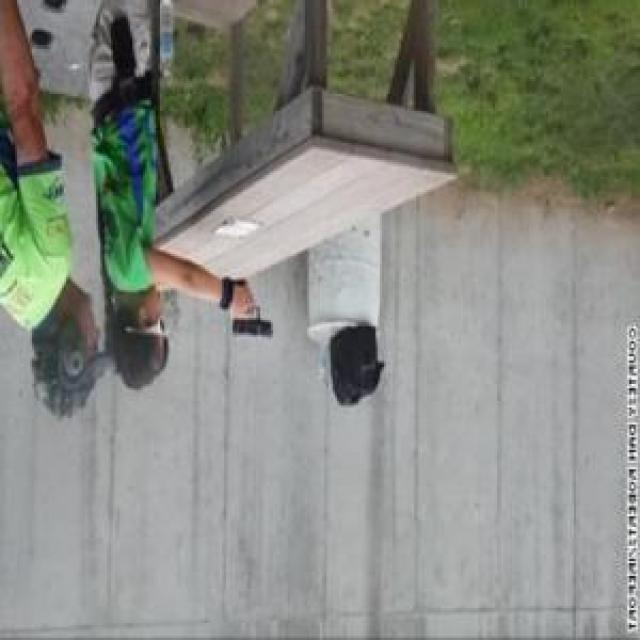pistol: (230, 280, 276, 339)
